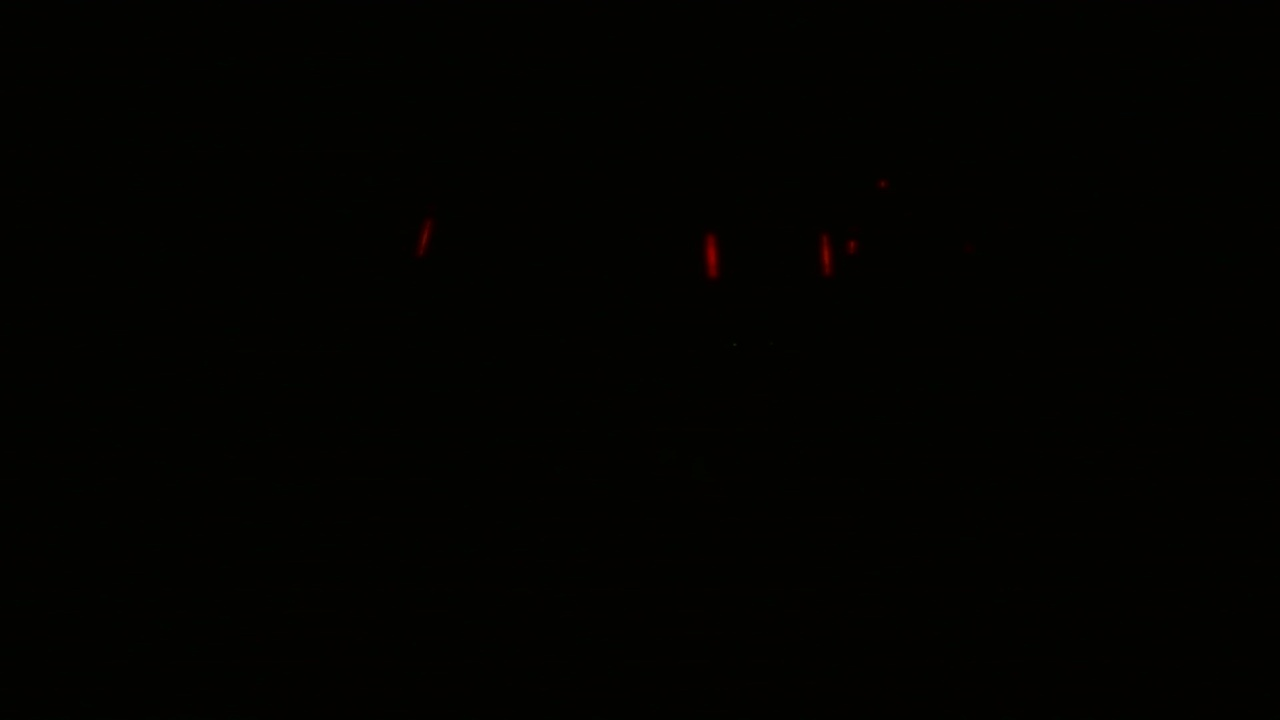pair1: (701, 224, 836, 287)
